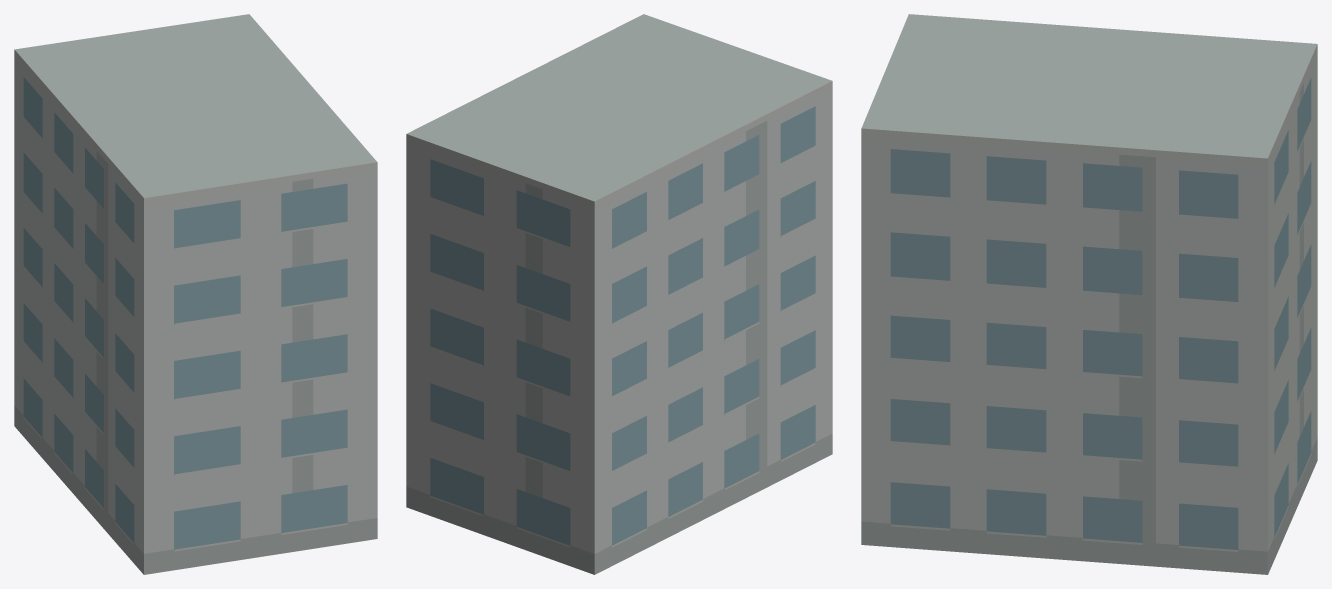
Rendered from survey-upis-32887515.glb.
3 views of the same model, side by side, from view 1: azimuth 30°, elevation 25°; view 2: azimuth 150°, elevation 25°; view 3: azimuth 270°, elevation 25° (orthographic). The views are drawn at different scales.
Parts seen in each view (by area): view 1: survey-upis-32887515.tmp; view 2: survey-upis-32887515.tmp; view 3: survey-upis-32887515.tmp.
Boxes of the visible parts, box(x1,y1,x2,y2) form: survey-upis-32887515.tmp: box(14, 14, 377, 574); survey-upis-32887515.tmp: box(406, 14, 832, 574); survey-upis-32887515.tmp: box(861, 14, 1317, 574).
Bounding box in the file's own units: 10.57 × 14.2 × 14.11.
